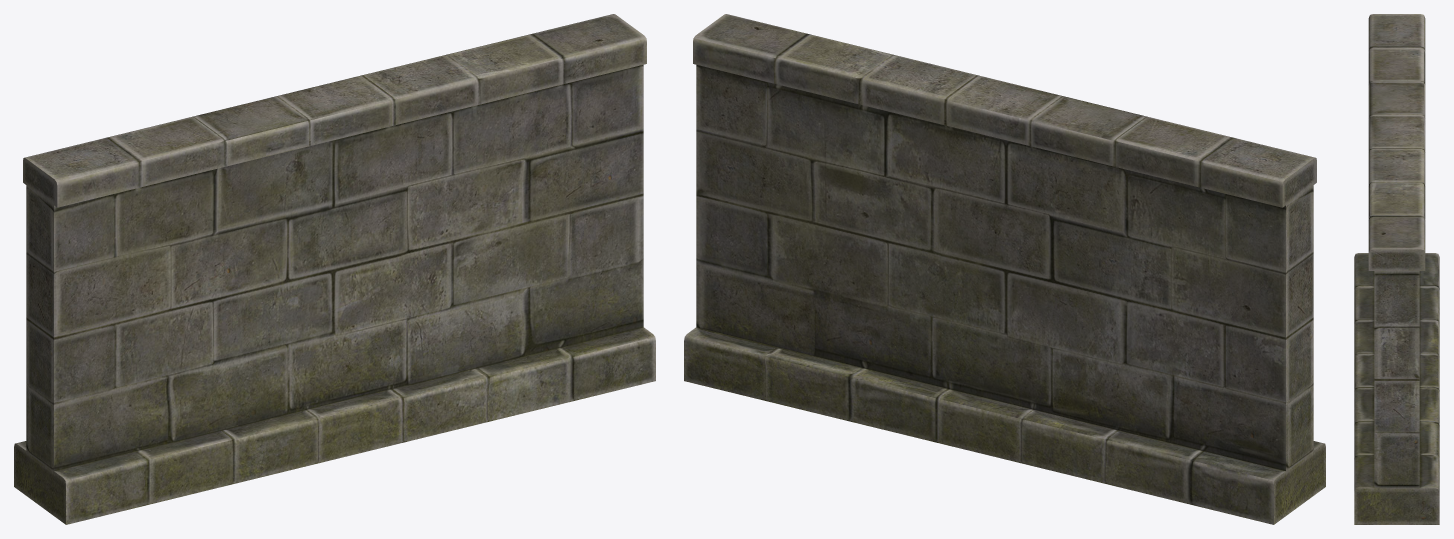
The model's file is stone-wall.glb.
3 renders of one model, left to right at view 1: azimuth 30°, elevation 25°; view 2: azimuth 150°, elevation 25°; view 3: azimuth 270°, elevation 25°, orthographic. The views are drawn at different scales.
Visible parts, largest first — view 1: stone_wall; view 2: stone_wall; view 3: stone_wall.
Part boxes in pixels (bbox=[...]): stone_wall: bbox=[14, 14, 655, 524]; stone_wall: bbox=[684, 14, 1325, 524]; stone_wall: bbox=[1354, 14, 1439, 524].
Size of the model in its own units: 4.9 by 2.68 by 0.7497.
1 material, 1 textured.
